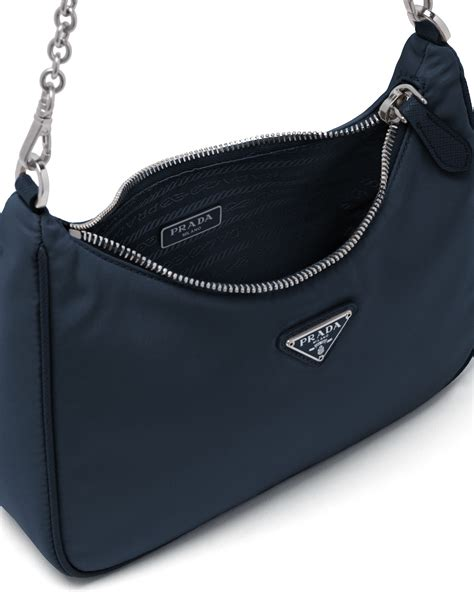nylon: (1, 26, 474, 580)
